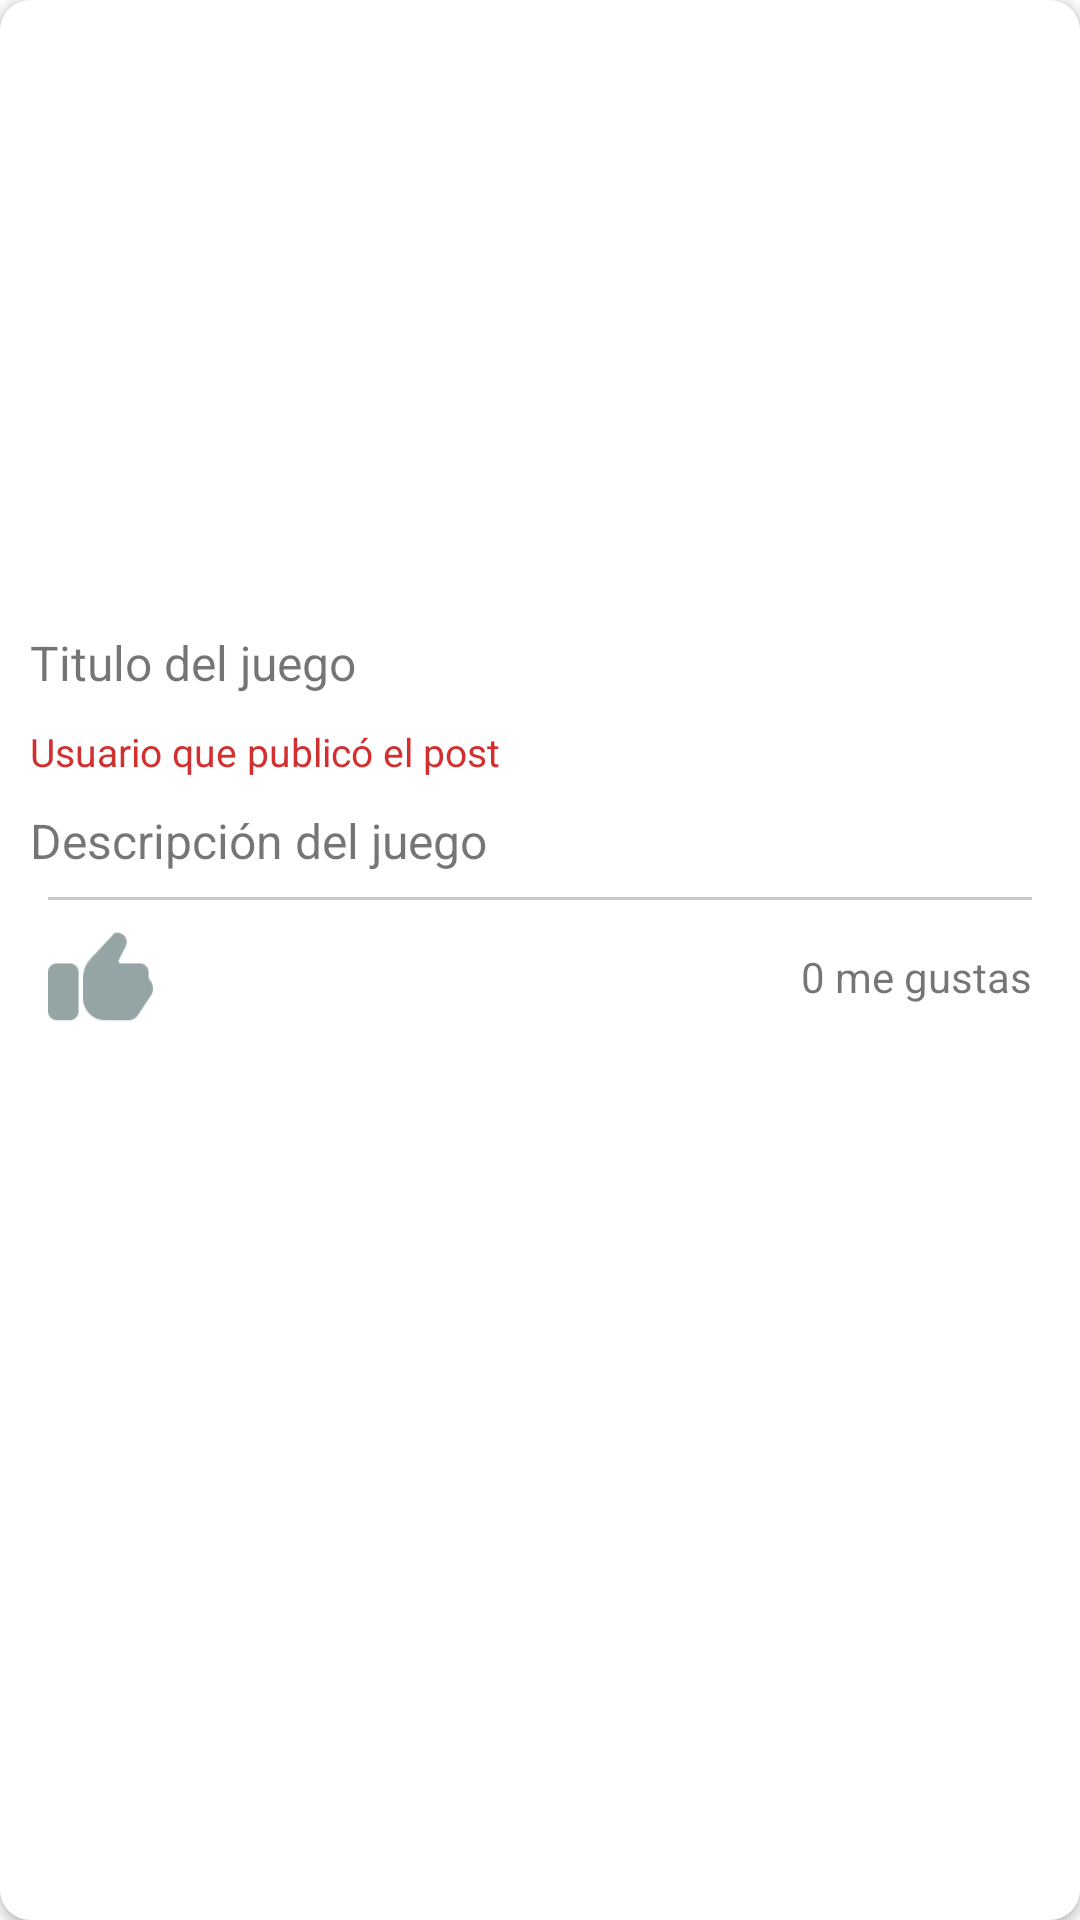

Point at icon controls on the screen. Image size 1080 x 1920, points as (x=x, y=y).
like: (x=100, y=976)
